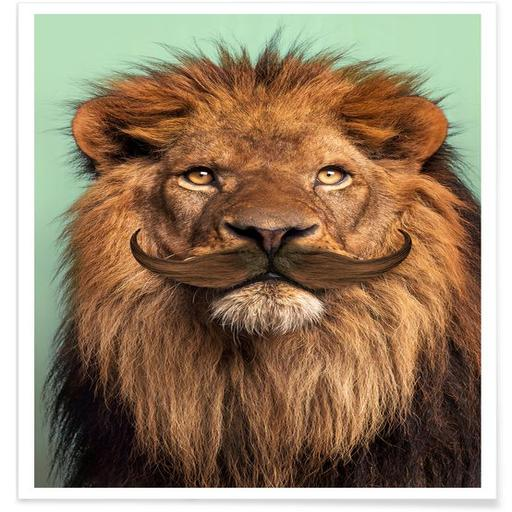Lion: (38, 22, 491, 512)
